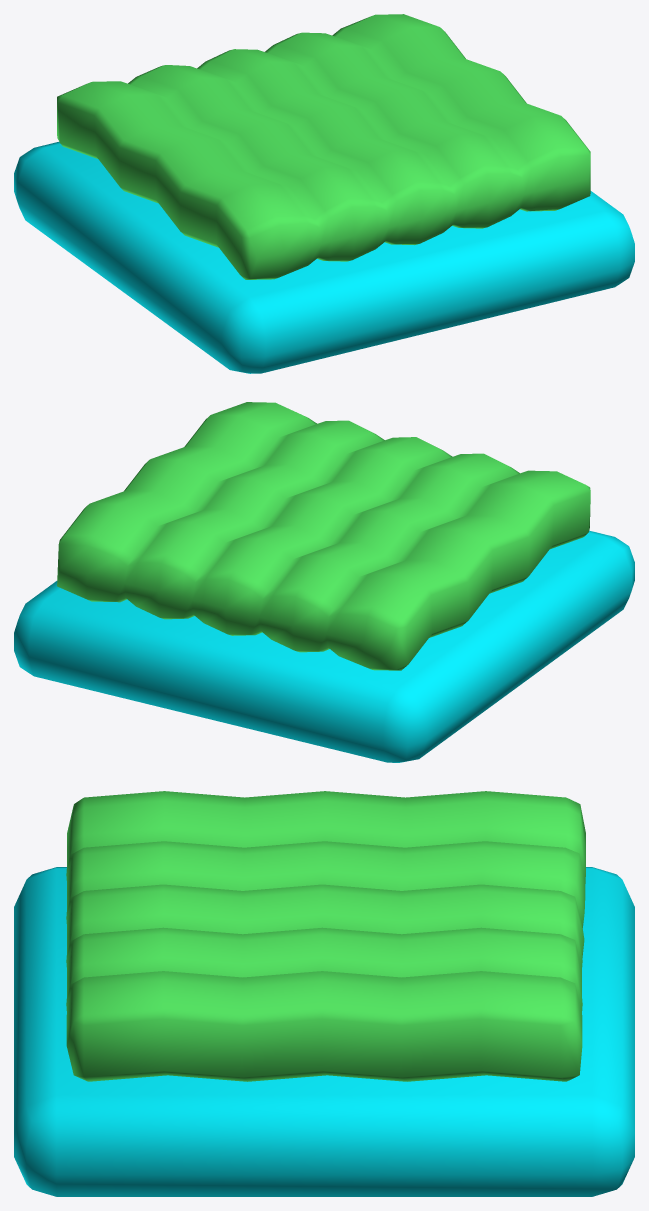
File: platform.fbx
The picture shows the model from 3 angles, top to bottom: view 1: azimuth 30°, elevation 25°; view 2: azimuth 150°, elevation 25°; view 3: azimuth 270°, elevation 25°; orthographic projection. The views are drawn at different scales.
Parts seen in each view (by area): view 1: platform; view 2: platform; view 3: platform.
Boxes of the visible parts, x1,y1,x2,y2 form: platform: [14, 14, 634, 373]; platform: [14, 402, 634, 762]; platform: [14, 791, 634, 1196].
Bounding box in the file's own units: 97.96 × 33.92 × 97.96.
